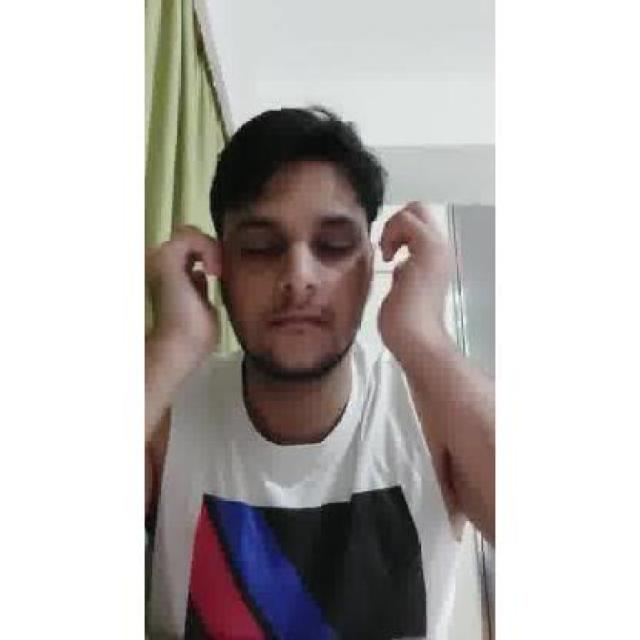inattentif: (209, 106, 376, 383)
